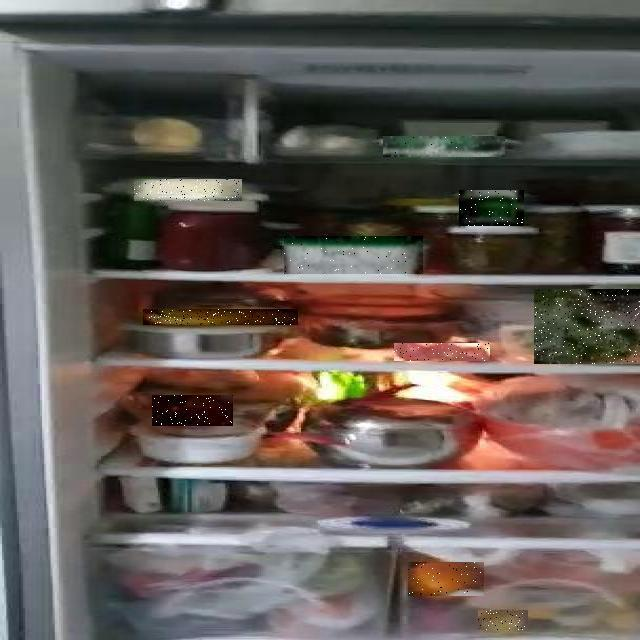Banana: (143, 309, 298, 325)
Cheese: (284, 236, 423, 274), (135, 179, 243, 201)
Cream: (383, 136, 505, 157)
Lemon: (478, 610, 528, 630)
Lettuce: (534, 289, 640, 364)
Orange: (408, 562, 484, 596)
Tomatoes: (152, 395, 233, 426), (394, 343, 490, 361)
Yoghurt: (459, 190, 524, 226)
